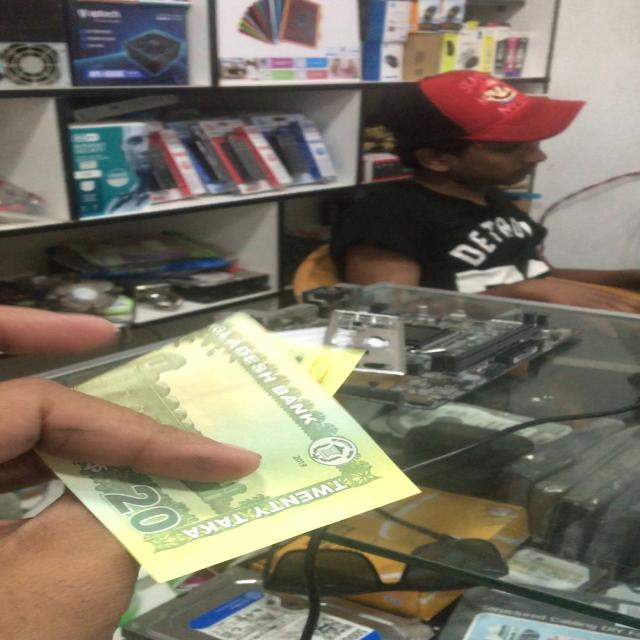Taka: (25, 318, 427, 572)
